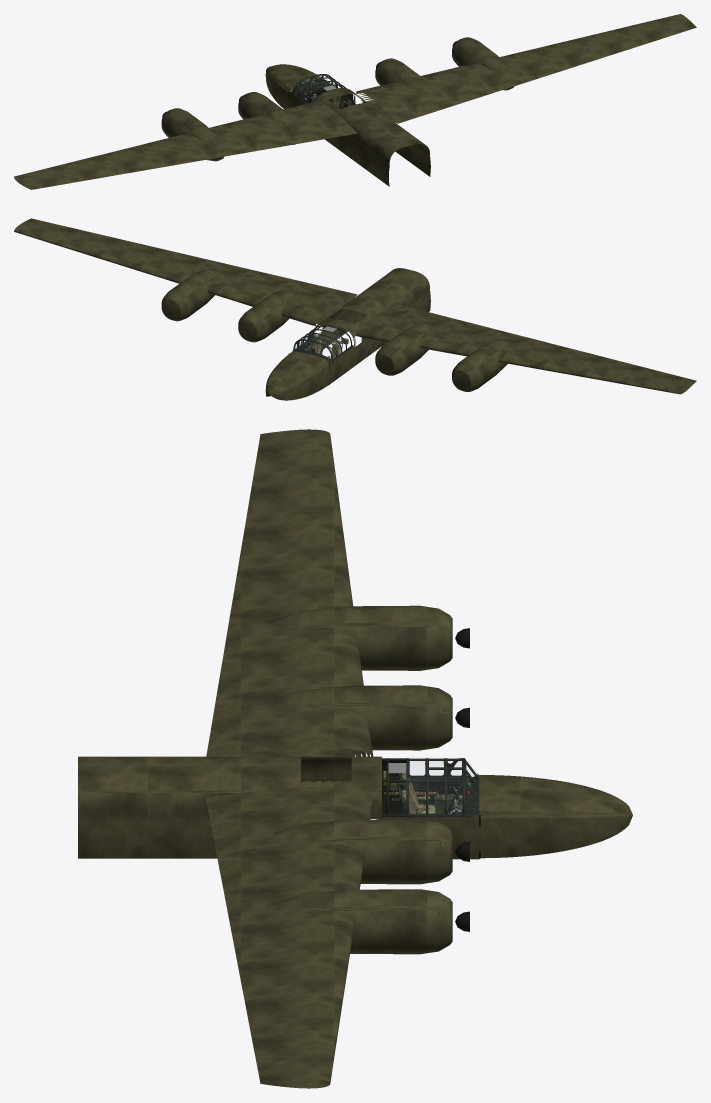
Rendered from b24-flight-deck.glb.
3 views of the same model, one above another, from view 1: azimuth 30°, elevation 25°; view 2: azimuth 150°, elevation 25°; view 3: azimuth 270°, elevation 25° (orthographic). The views are drawn at different scales.
Visible parts, largest first — view 1: b24_ext, b24_frame; view 2: b24_ext, b24_frame; view 3: b24_ext, b24_frame, b24_black, b24_canopy.
Boxes of the visible parts, box(x1,y1,x2,y2) form: b24_ext: box(14, 14, 696, 189); b24_frame: box(290, 74, 352, 107); b24_ext: box(14, 218, 696, 400); b24_frame: box(293, 324, 353, 363); b24_ext: box(78, 429, 632, 1088); b24_frame: box(382, 758, 478, 816); b24_black: box(384, 628, 469, 931); b24_canopy: box(382, 758, 478, 816).
Bounding box in the file's own units: 33 × 2.13 × 11.92.
25 materials, 12 textured.
